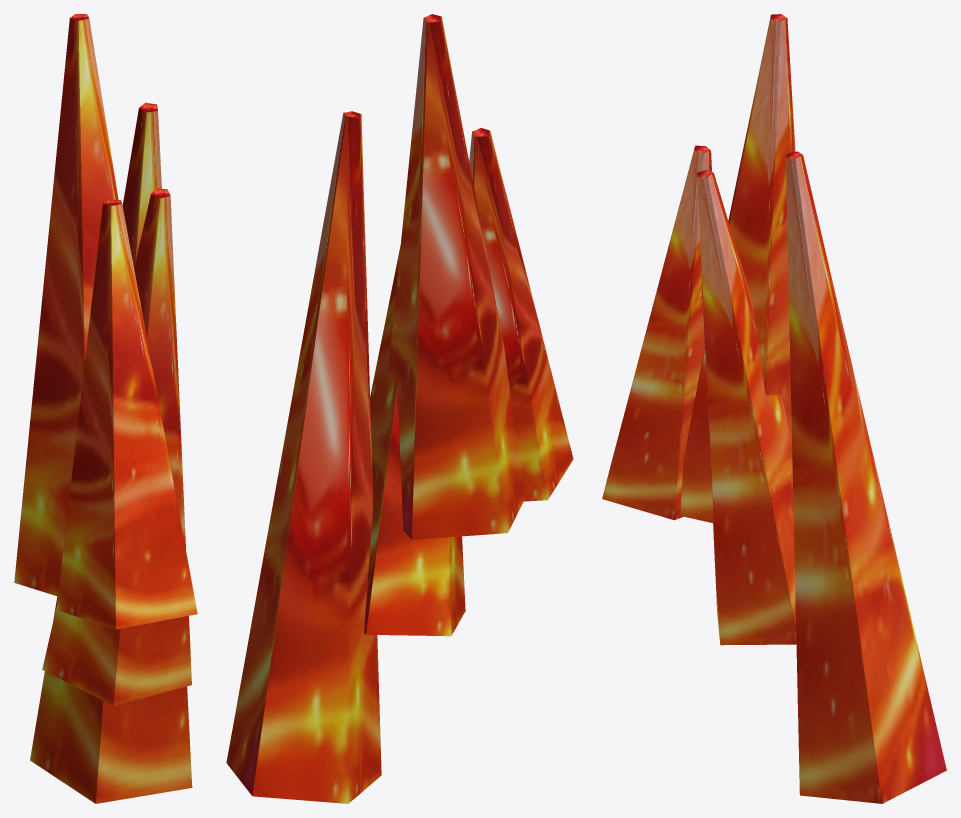
File: Prop_RedCrystalCluster.fbx
3 renders of one model, left to right at view 1: azimuth 30°, elevation 25°; view 2: azimuth 150°, elevation 25°; view 3: azimuth 270°, elevation 25°, orthographic. The views are drawn at different scales.
Visible parts, largest first — view 1: Prop_Crystal_2, Prop_Crystal_3, Prop_Crystal_0, Prop_Crystal_1; view 2: Prop_Crystal_0, Prop_Crystal_3, Prop_Crystal_1, Prop_Crystal_2; view 3: Prop_Crystal_0, Prop_Crystal_1, Prop_Crystal_3, Prop_Crystal_2.
Boxes of the visible parts, x1,y1,x2,y2 form: Prop_Crystal_2: (56, 199, 197, 629); Prop_Crystal_3: (14, 14, 118, 596); Prop_Crystal_0: (30, 102, 192, 803); Prop_Crystal_1: (42, 188, 191, 705); Prop_Crystal_0: (226, 111, 381, 803); Prop_Crystal_3: (388, 14, 524, 539); Prop_Crystal_1: (364, 246, 465, 636); Prop_Crystal_2: (469, 128, 573, 501); Prop_Crystal_0: (785, 151, 946, 803); Prop_Crystal_1: (697, 170, 796, 645); Prop_Crystal_3: (680, 14, 795, 523); Prop_Crystal_2: (602, 145, 711, 520).
Size of the model in its own units: 0.5312 by 1.73 by 0.7456.
1 material, 1 textured.
